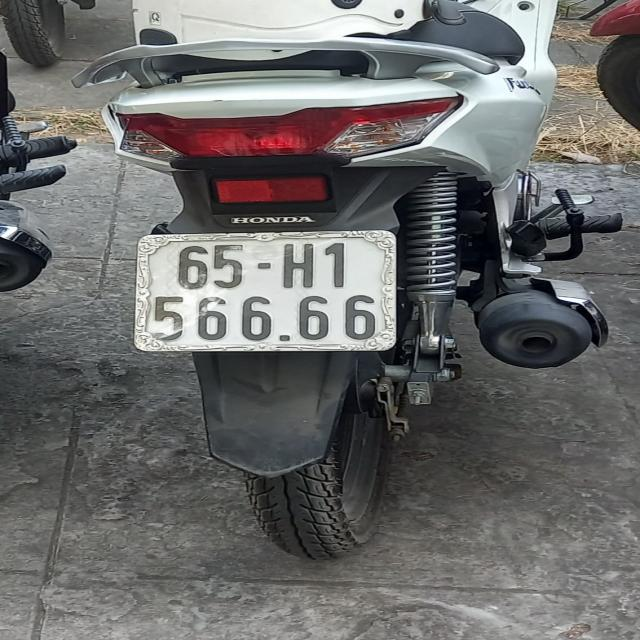1: (324, 242, 354, 288)
5: (213, 245, 247, 288), (155, 294, 184, 343)
6: (342, 292, 380, 344), (239, 294, 276, 343), (296, 296, 333, 343), (176, 245, 207, 290), (195, 295, 226, 340)
H: (279, 241, 316, 292)
